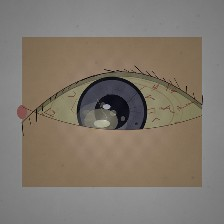corneal_ulcer: (74, 100, 128, 143)
